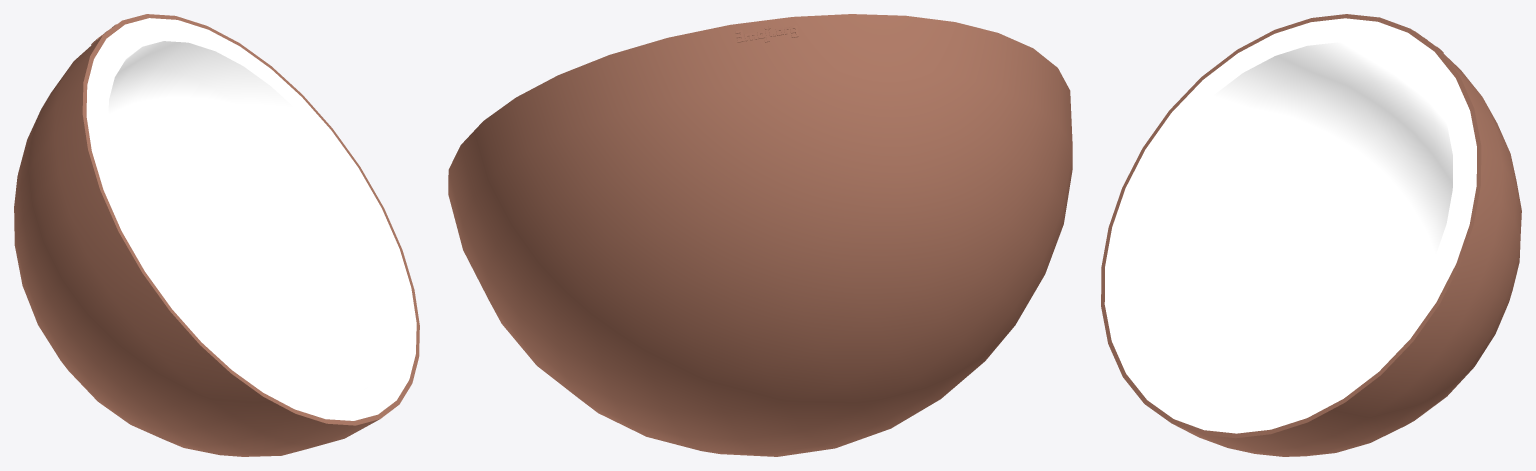
File: coconut.gltf
The picture shows the model from 3 angles, left to right: view 1: azimuth 30°, elevation 25°; view 2: azimuth 150°, elevation 25°; view 3: azimuth 270°, elevation 25°; orthographic projection. The views are drawn at different scales.
Visible parts, largest first — view 1: Cube.341; view 2: Cube.341; view 3: Cube.341.
Part boxes in pixels (x1,y1,x2,y2): Cube.341: (14,14,419,456); Cube.341: (448,14,1072,456); Cube.341: (1101,14,1521,456).
Bounding box in the file's own units: 2.23 × 2.09 × 2.18.
Materials: 1 (1 with a texture image).
